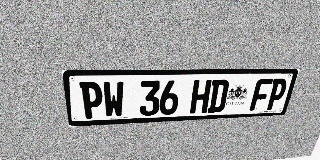3: (140, 81, 160, 116)
6: (159, 80, 180, 115)
D: (207, 79, 230, 113)
F: (249, 79, 273, 111)
H: (190, 80, 212, 114)
P: (79, 81, 104, 119), (265, 78, 289, 110)
W: (102, 81, 124, 118)
